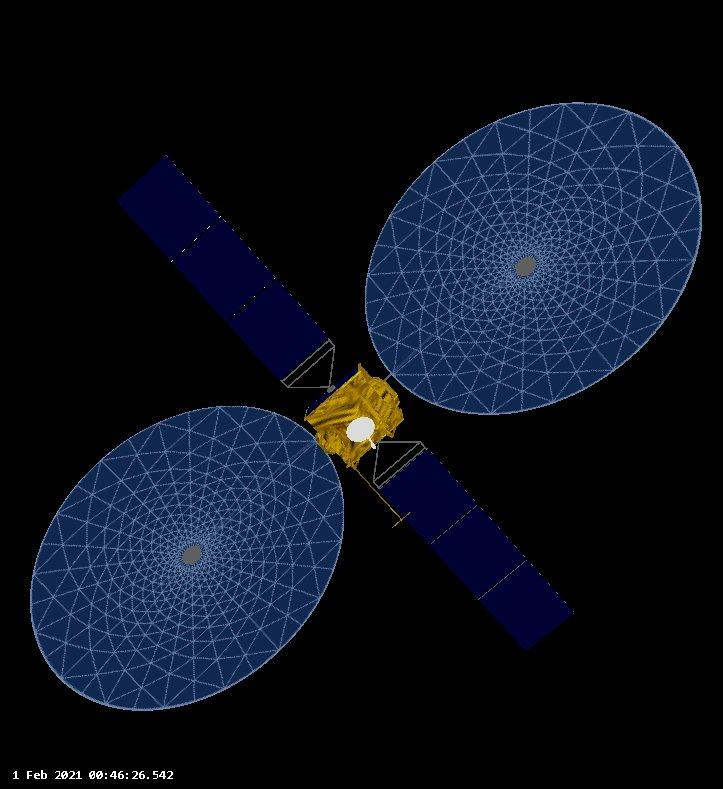antenna: (362, 98, 707, 418), (27, 398, 351, 717), (342, 415, 385, 452)
body: (303, 363, 409, 462)
solar: (109, 147, 336, 390), (369, 437, 577, 658)
